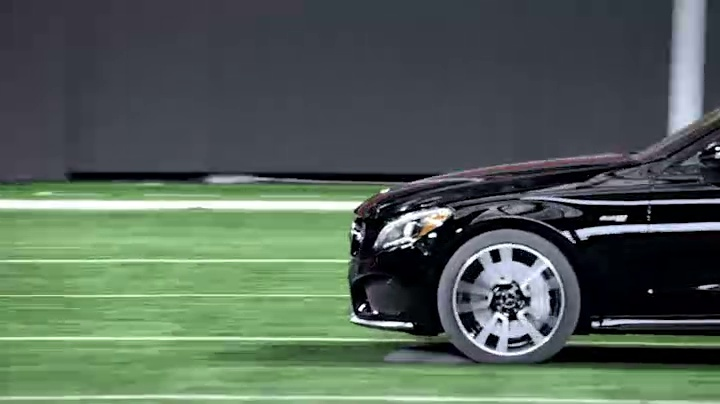amg: (339, 89, 720, 367)
